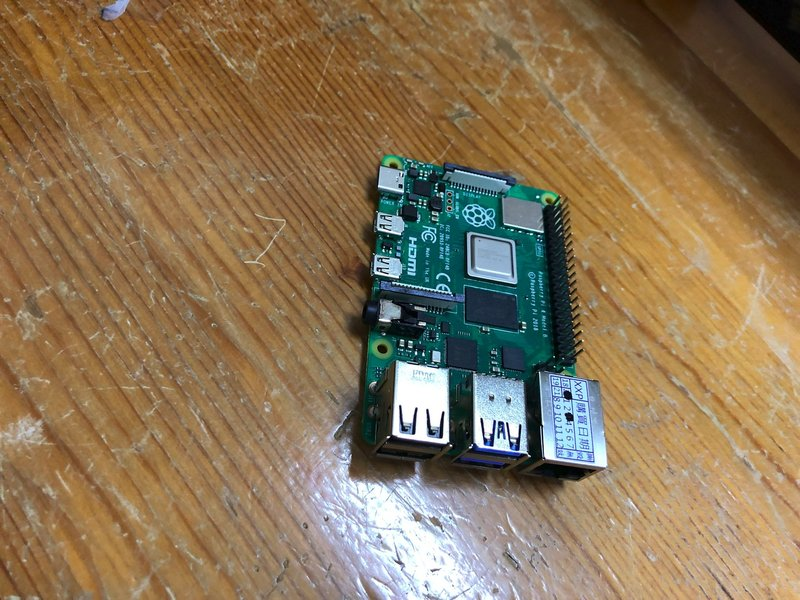pi: (351, 150, 611, 480)
